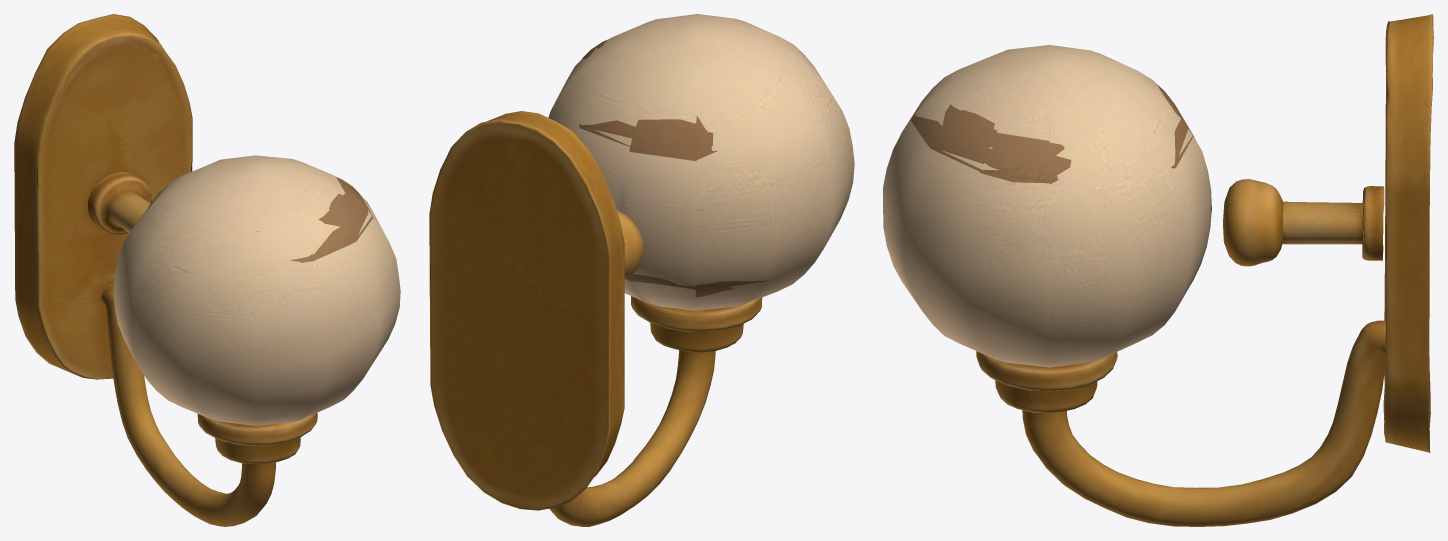
File: sconce.halo.glb
3 renders of one model, left to right at view 1: azimuth 30°, elevation 25°; view 2: azimuth 150°, elevation 25°; view 3: azimuth 270°, elevation 25°, orthographic. The views are drawn at different scales.
Visible parts, largest first — view 1: geometry_0; view 2: geometry_0; view 3: geometry_0.
Boxes of the visible parts, x1,y1,x2,y2 form: geometry_0: [14, 14, 400, 526]; geometry_0: [429, 14, 854, 526]; geometry_0: [883, 14, 1433, 526].
Bounding box in the file's own units: 0.6274 × 1 × 0.9975.
Materials: 1 (1 with a texture image).
